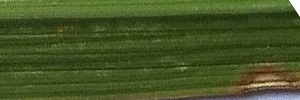RiceBlast: (235, 68, 300, 90)
